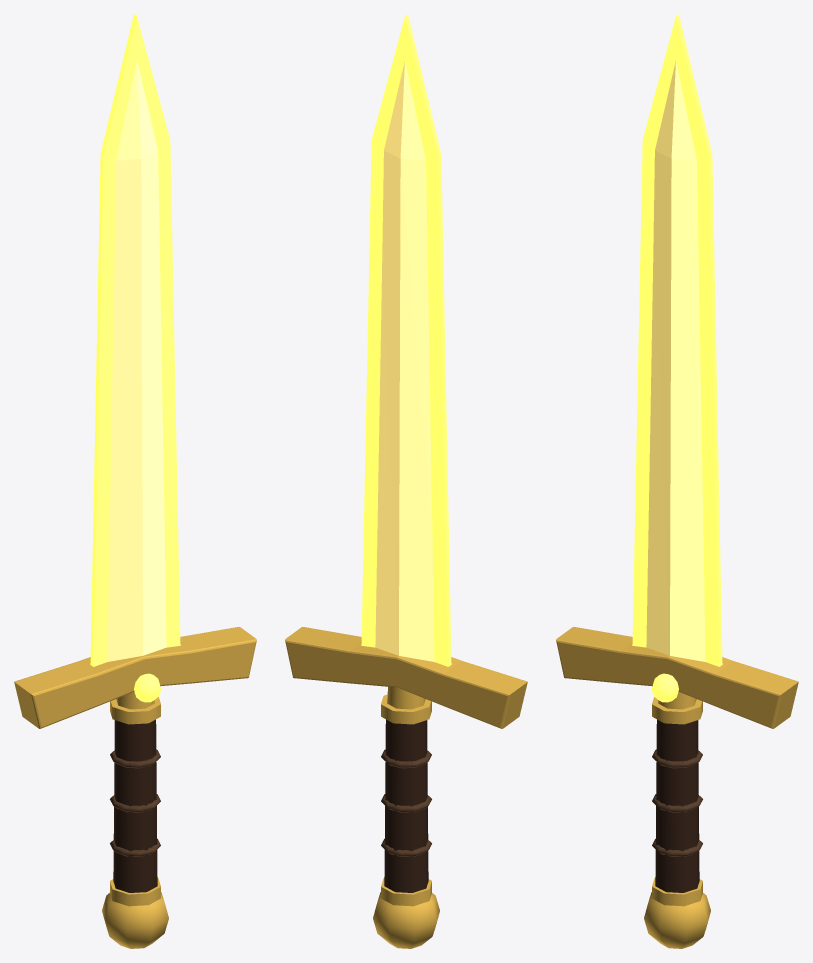
Rendered from sword_f0_4a8b3d22.glb.
3 views of the same model, side by side, from view 1: azimuth 30°, elevation 25°; view 2: azimuth 150°, elevation 25°; view 3: azimuth 330°, elevation 25° (orthographic).
Parts seen in each view (by area): view 1: m0_ow80_, m1_gm110_, m4_ow80_, m2_ow80_, m5_ow80_, m3_gm160_; view 2: m0_ow80_, m1_gm110_, m4_ow80_, m2_ow80_, m5_ow80_; view 3: m0_ow80_, m1_gm110_, m4_ow80_, m2_ow80_, m5_ow80_, m3_gm160_.
Part boxes in pixels (bbox=[...]): m0_ow80_: bbox=[107, 61, 166, 661]; m1_gm110_: bbox=[90, 14, 180, 666]; m4_ow80_: bbox=[14, 627, 256, 948]; m2_ow80_: bbox=[113, 719, 157, 892]; m5_ow80_: bbox=[110, 749, 160, 856]; m3_gm160_: bbox=[134, 673, 161, 702]; m0_ow80_: bbox=[375, 61, 434, 661]; m1_gm110_: bbox=[361, 14, 451, 666]; m4_ow80_: bbox=[285, 627, 527, 948]; m2_ow80_: bbox=[384, 719, 428, 892]; m5_ow80_: bbox=[381, 749, 431, 856]; m0_ow80_: bbox=[646, 61, 705, 661]; m1_gm110_: bbox=[632, 14, 722, 666]; m4_ow80_: bbox=[556, 627, 798, 948]; m2_ow80_: bbox=[655, 719, 699, 892]; m5_ow80_: bbox=[652, 749, 702, 856]; m3_gm160_: bbox=[651, 673, 678, 702].
Bounding box in the file's own units: 0.4791 × 1.89 × 0.134.
